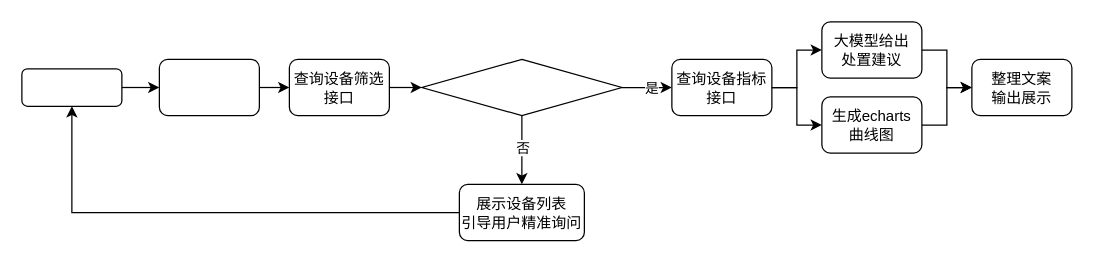
Some shapes in this 1094 by 263 pixel diagram are drawn without their labels. Here are the shapes that lost their labels. From the top down, the centre of each, then its label:
At point 71,87: "用户输入".
At point 208,87: "大模型语义 识别提参".
At point 521,87: "是否锁定单一设备".
